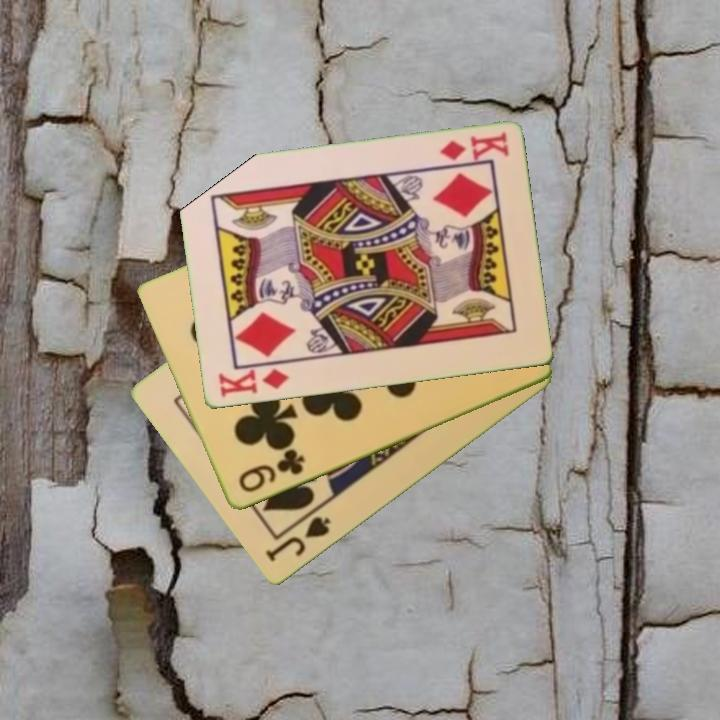9c: (234, 446, 308, 496)
Js: (261, 513, 334, 566)
Kd: (214, 366, 292, 401), (436, 129, 511, 164)
